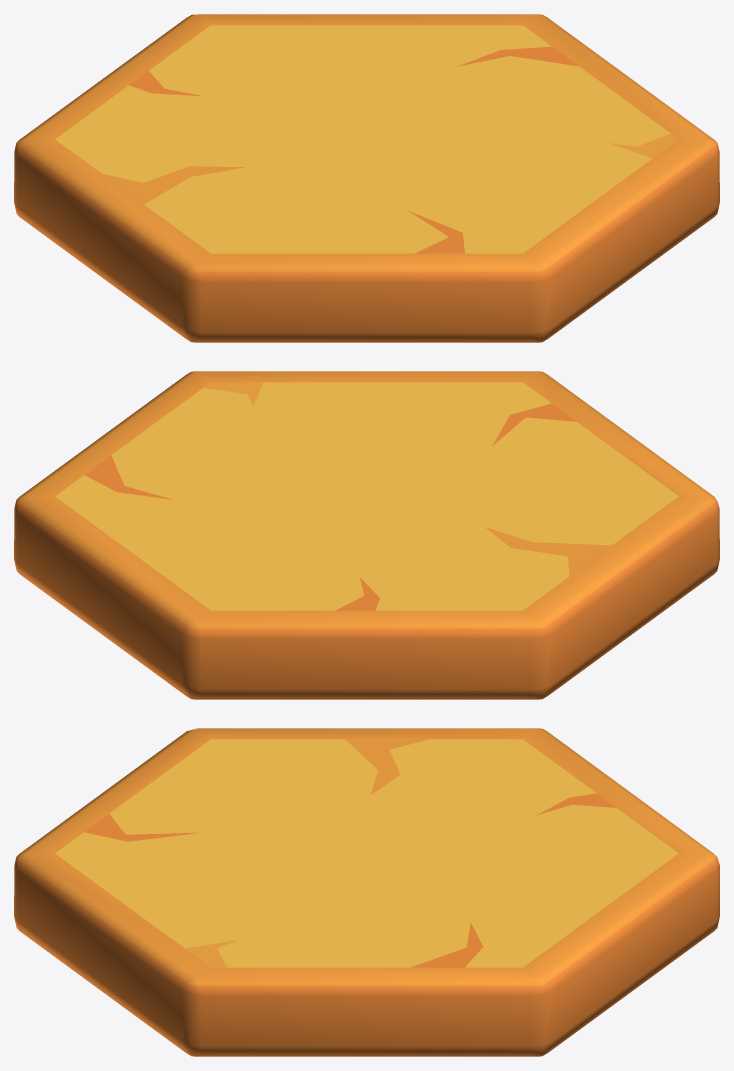
The model's file is Platform yellow 2.fbx.
The picture shows the model from 3 angles, top to bottom: view 1: azimuth 30°, elevation 25°; view 2: azimuth 150°, elevation 25°; view 3: azimuth 270°, elevation 25°; orthographic projection.
Parts seen in each view (by area): view 1: Platform yellow 2; view 2: Platform yellow 2; view 3: Platform yellow 2.
Boxes of the visible parts, x1,y1,x2,y2 form: Platform yellow 2: (14,14,719,342); Platform yellow 2: (14,371,719,699); Platform yellow 2: (14,728,719,1056).
Bounding box in the file's own units: 625 × 83.5 × 715.
